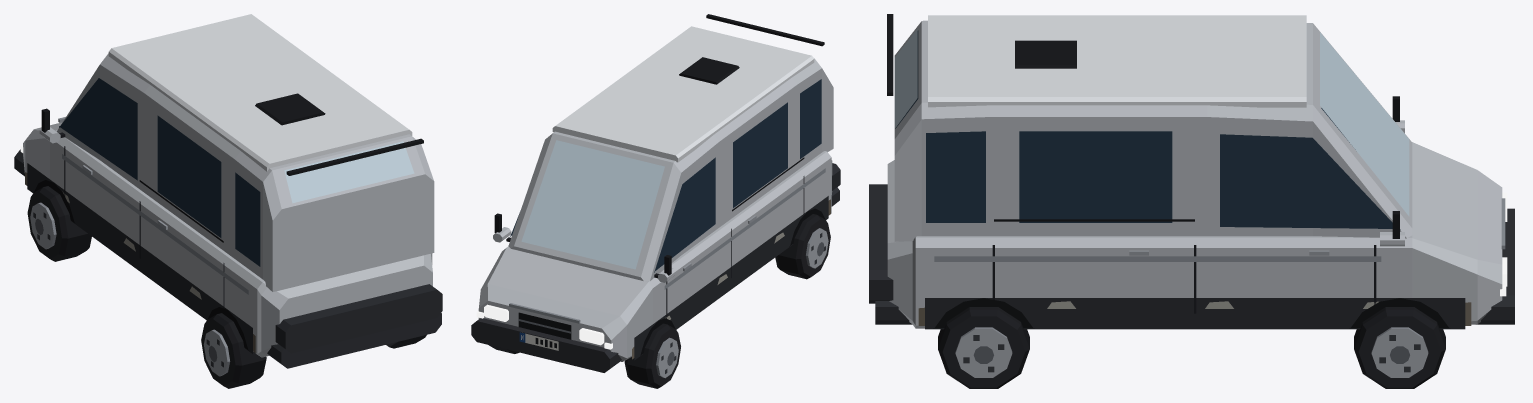
Rendered from van.glb.
3 views of the same model, side by side, from view 1: azimuth 30°, elevation 25°; view 2: azimuth 150°, elevation 25°; view 3: azimuth 270°, elevation 25° (orthographic). The views are drawn at different scales.
Visible parts, largest first — view 1: body.004, wheel_RL.004, wheel_FL.004; view 2: body.004, wheel_FL.004, wheel_RL.004; view 3: body.004, wheel_RR.004, wheel_FR.004.
Boxes of the visible parts, x1,y1,x2,y2 form: body.004: [14, 14, 442, 368]; wheel_RL.004: [201, 313, 266, 388]; wheel_FL.004: [27, 186, 91, 261]; body.004: [471, 14, 840, 372]; wheel_FL.004: [624, 323, 680, 388]; wheel_RL.004: [775, 214, 830, 279]; body.004: [869, 14, 1514, 329]; wheel_RR.004: [938, 307, 1029, 388]; wheel_FR.004: [1354, 307, 1445, 388].
Bounding box in the file's own units: 2.3 × 2.5 × 5.23.
